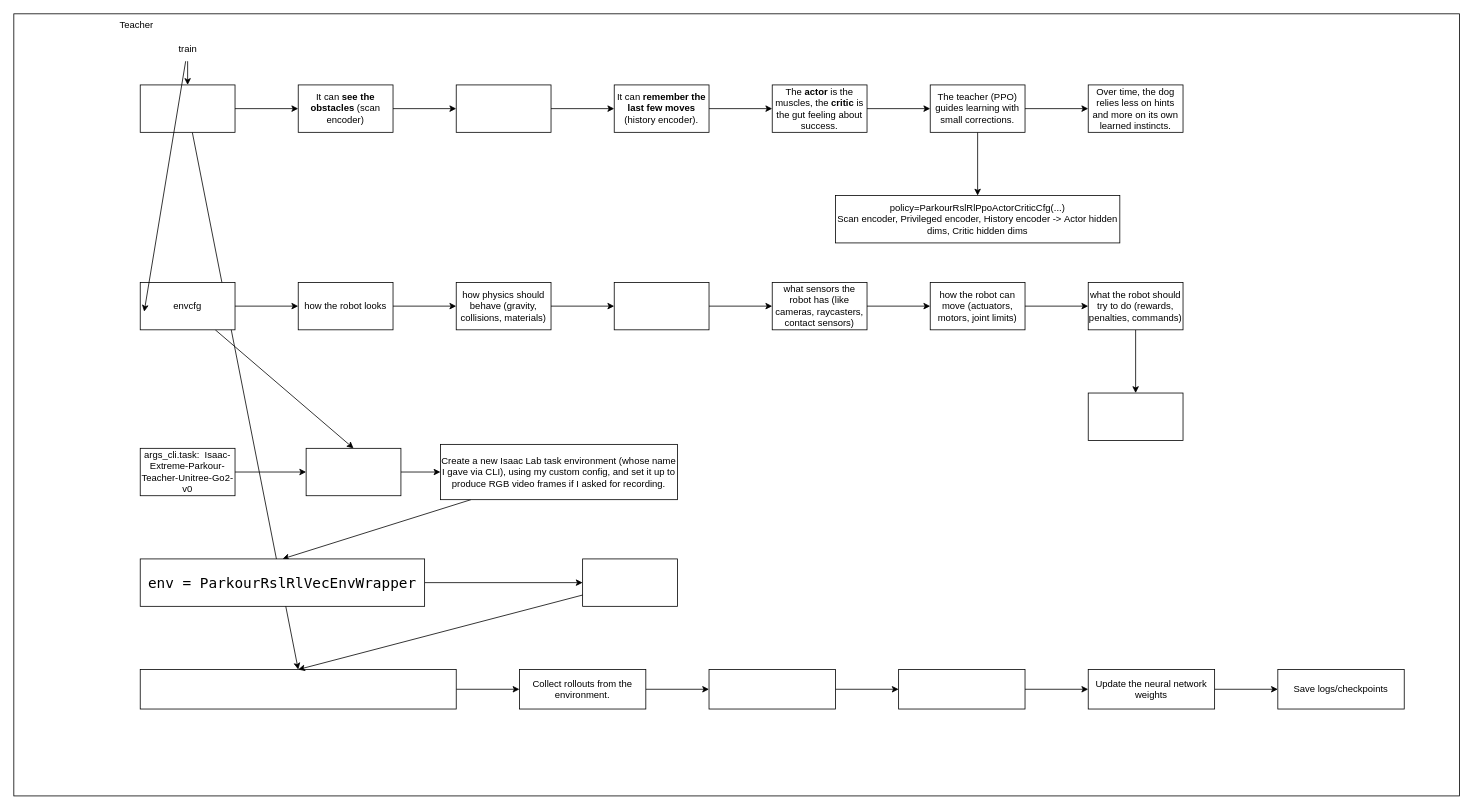
This 1473x810 diagram has some shape labels left out. The centre of each missing label's shape, as x and y in pixels:
agentcfg: [187,108]
Compute loss with PPO (or other on-policy algo): [961,689]
env=gym.make: [353,472]
It has special hints from the trainer at first (privileged info).: [503,108]
Pass observations into the policy (agent): [771,689]
runner = OnPolicyRunnerWithExtractor: [297,689]
Vectorize, Preprocess observations, Modify actions, Format outputs: [629,582]
what the world looks like (terrain, lighting, obstacles): [661,306]
when an episode ends: [1135,416]
